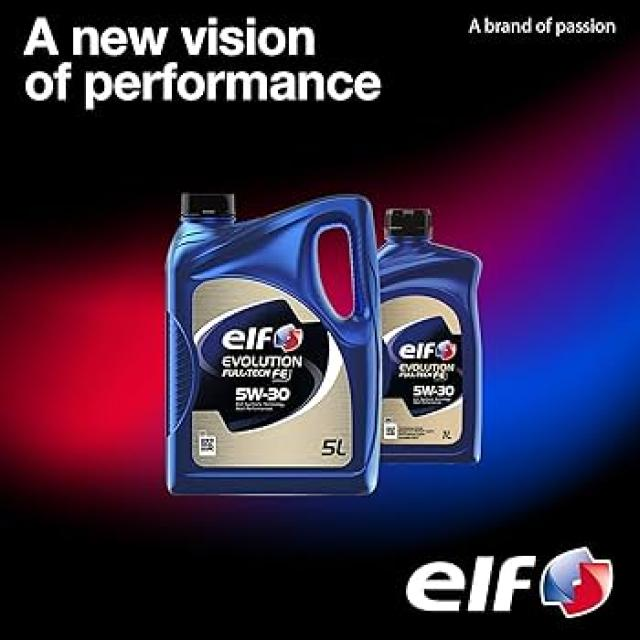motor_oil: (163, 190, 373, 494)
